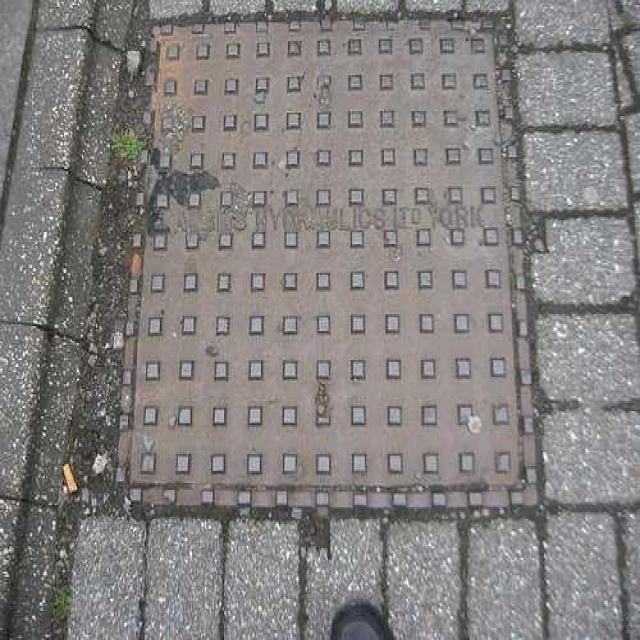manhole: (119, 15, 543, 519)
